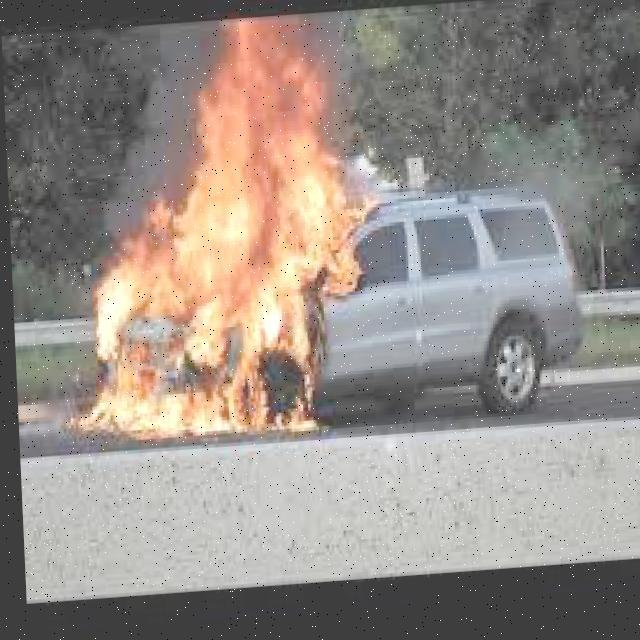Fire: (74, 64, 384, 454)
